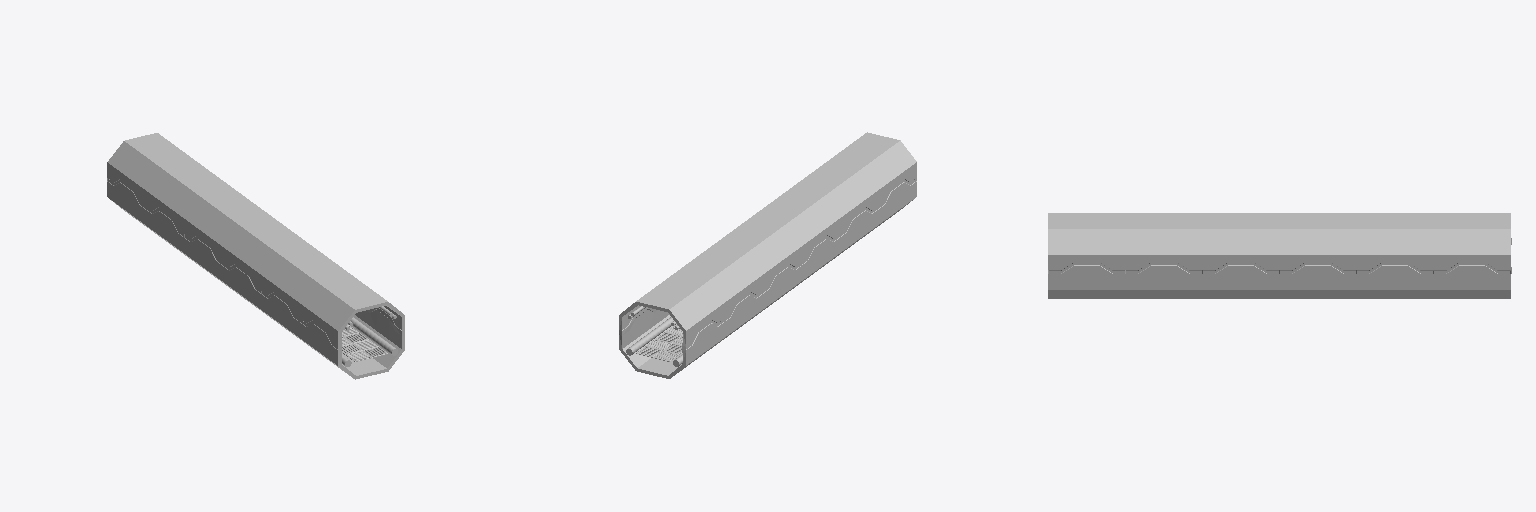
File: spaceshipCorridore.obj
The picture shows the model from 3 angles: view 1: azimuth 30°, elevation 25°; view 2: azimuth 150°, elevation 25°; view 3: azimuth 270°, elevation 25°; orthographic projection.
Visible parts, largest first — view 1: Cylinder.002; view 2: Cylinder.002; view 3: Cylinder.002.
Part boxes in pixels (x1,y1,x2,y2): Cylinder.002: (107, 133, 404, 379); Cylinder.002: (619, 132, 916, 378); Cylinder.002: (1048, 213, 1511, 298).
Bounding box in the file's own units: 2 × 2 × 12.02.